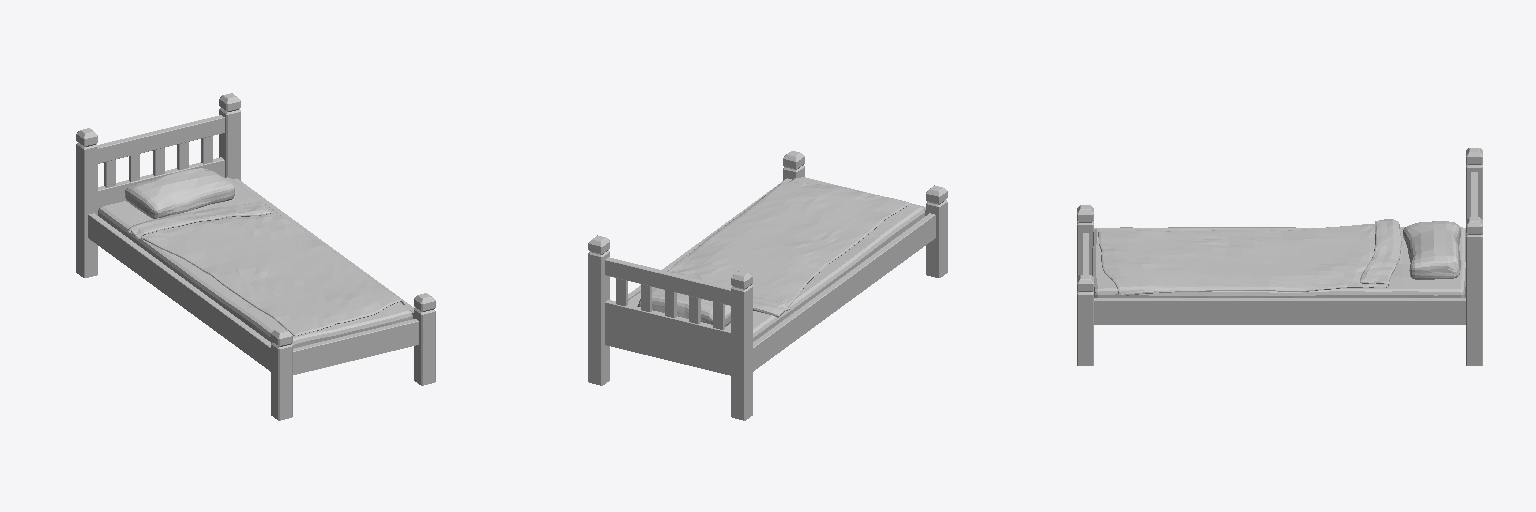
3 views of the same model, side by side, from view 1: azimuth 30°, elevation 25°; view 2: azimuth 150°, elevation 25°; view 3: azimuth 270°, elevation 25° (orthographic).
Parts seen in each view (by area): view 1: Bed; view 2: Bed; view 3: Bed.
Part boxes in pixels (bbox=[...]): Bed: bbox=[76, 93, 435, 420]; Bed: bbox=[588, 151, 947, 420]; Bed: bbox=[1077, 148, 1482, 365].
Size of the model in its own units: 0.7864 by 0.6819 by 1.76.